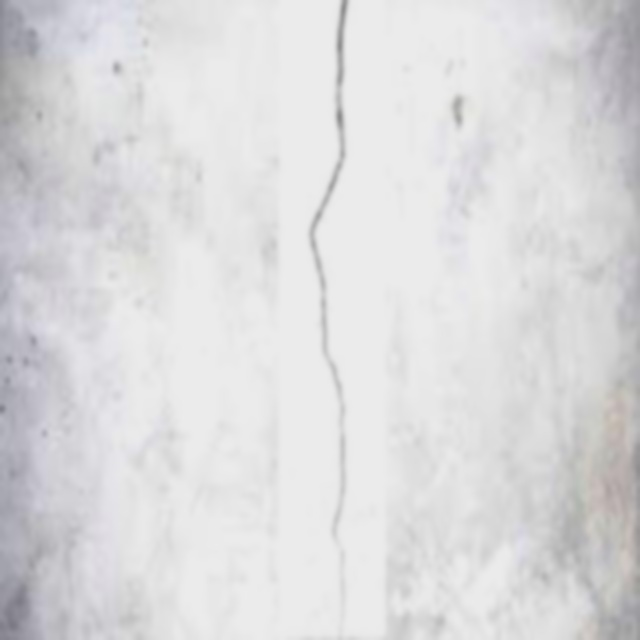SurfaceCrack: (276, 0, 390, 584)
